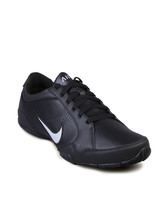shoes: (16, 65, 154, 173)
